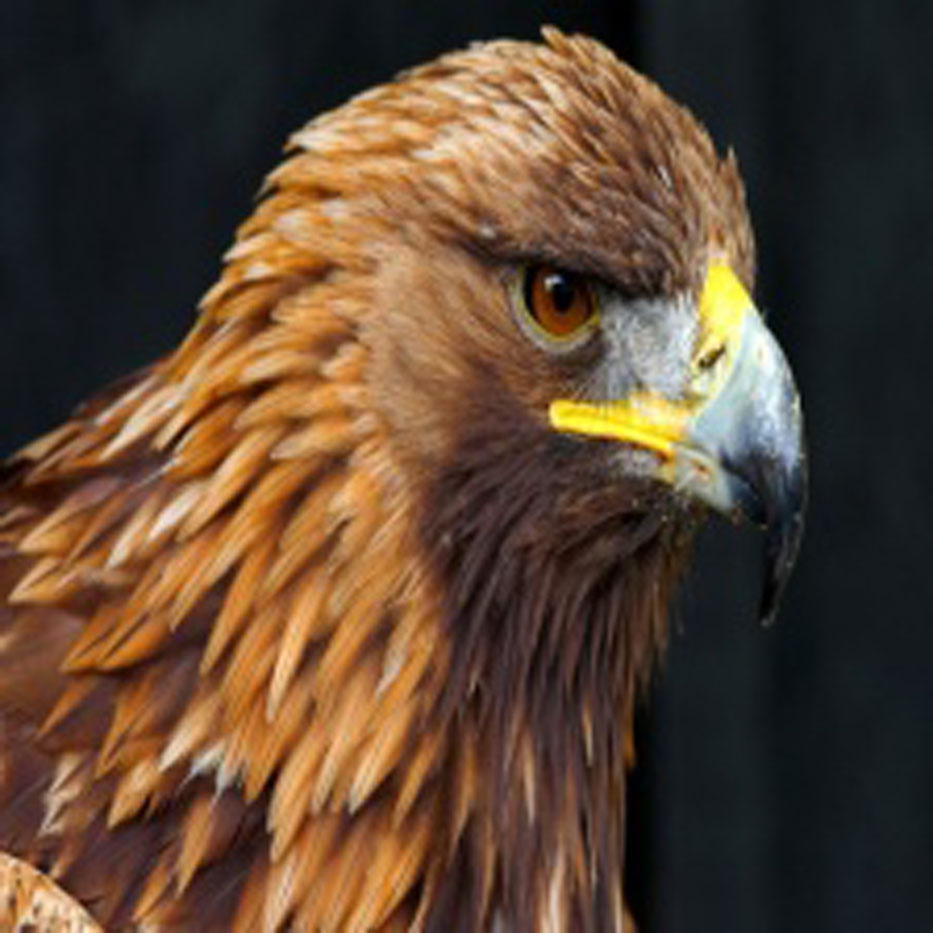Pengoyak Daging: (687, 288, 847, 648)
